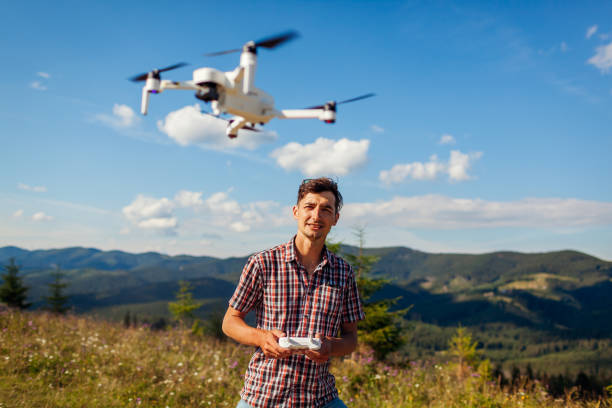Drone: (114, 27, 376, 146)
